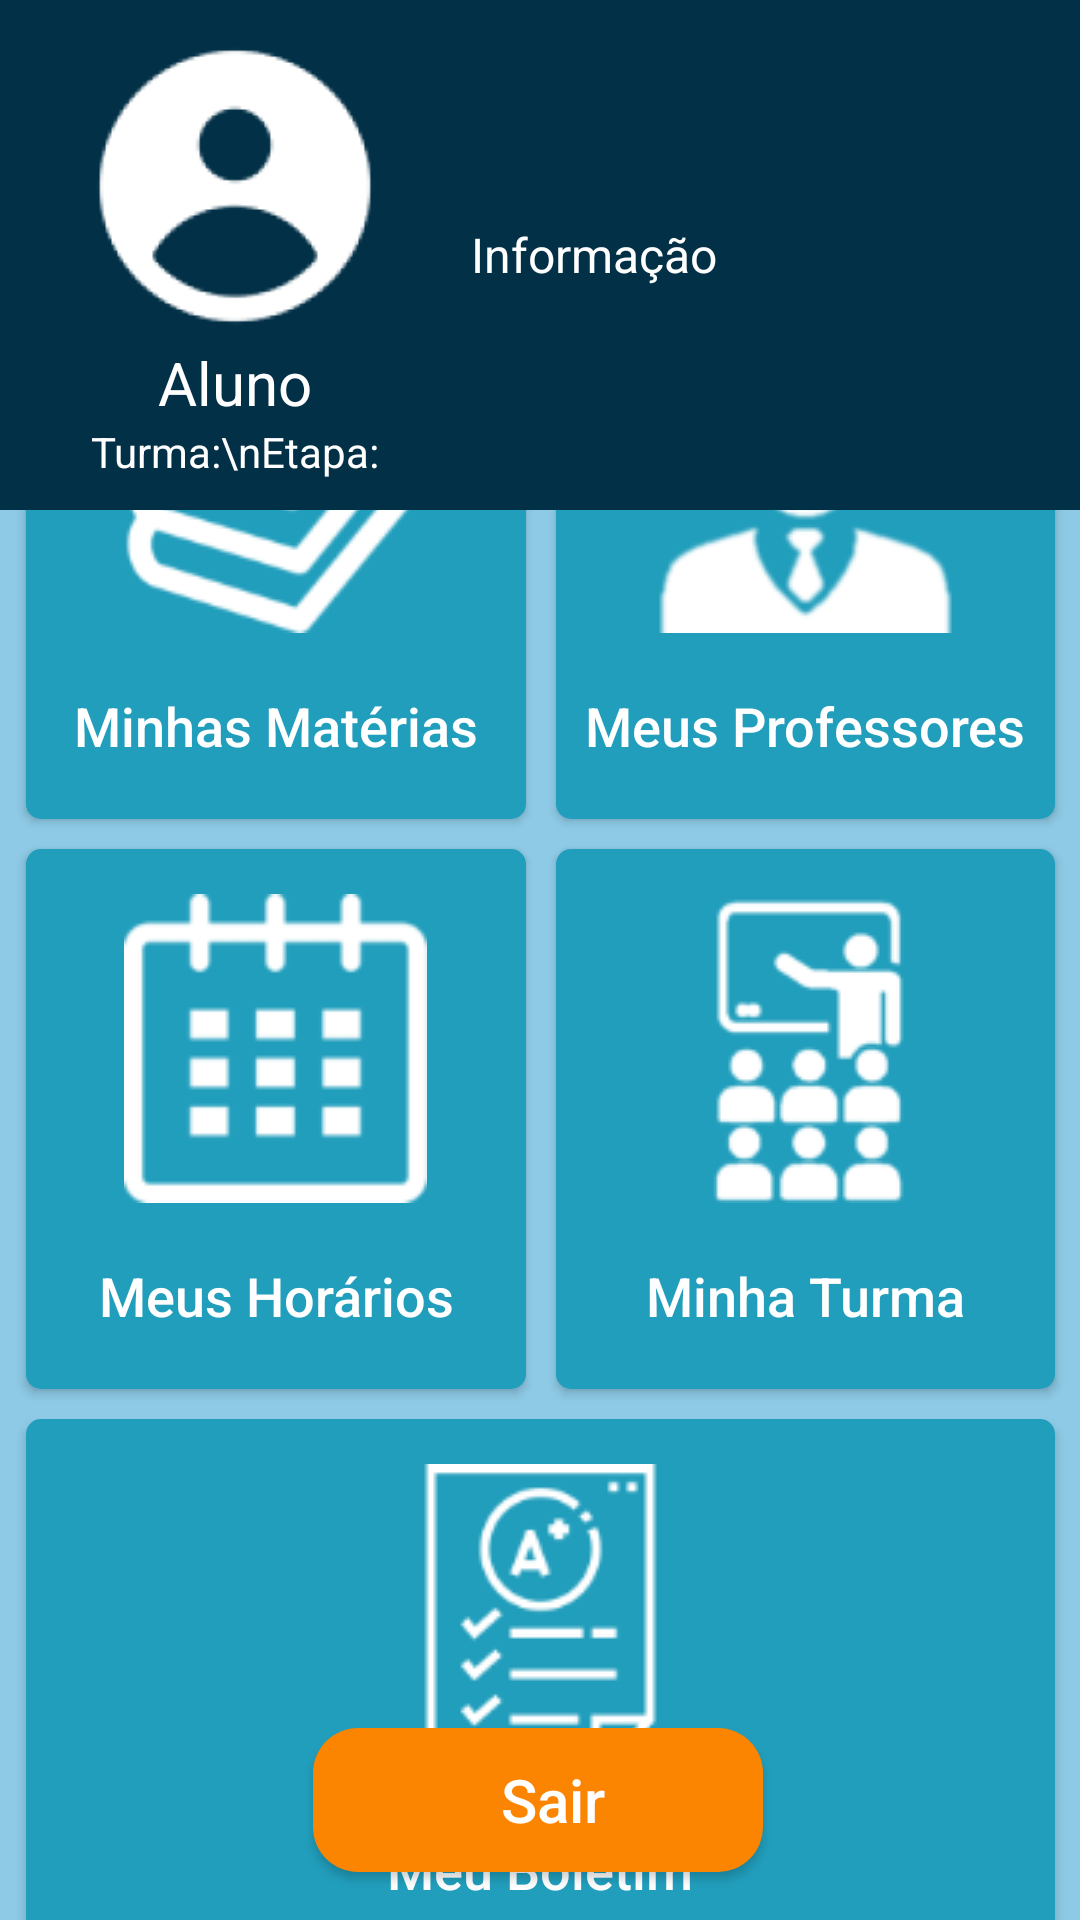

Icon click points for this 1080px×1920px phone screenshot, format point (x, y):
perfil: point (235, 186)
